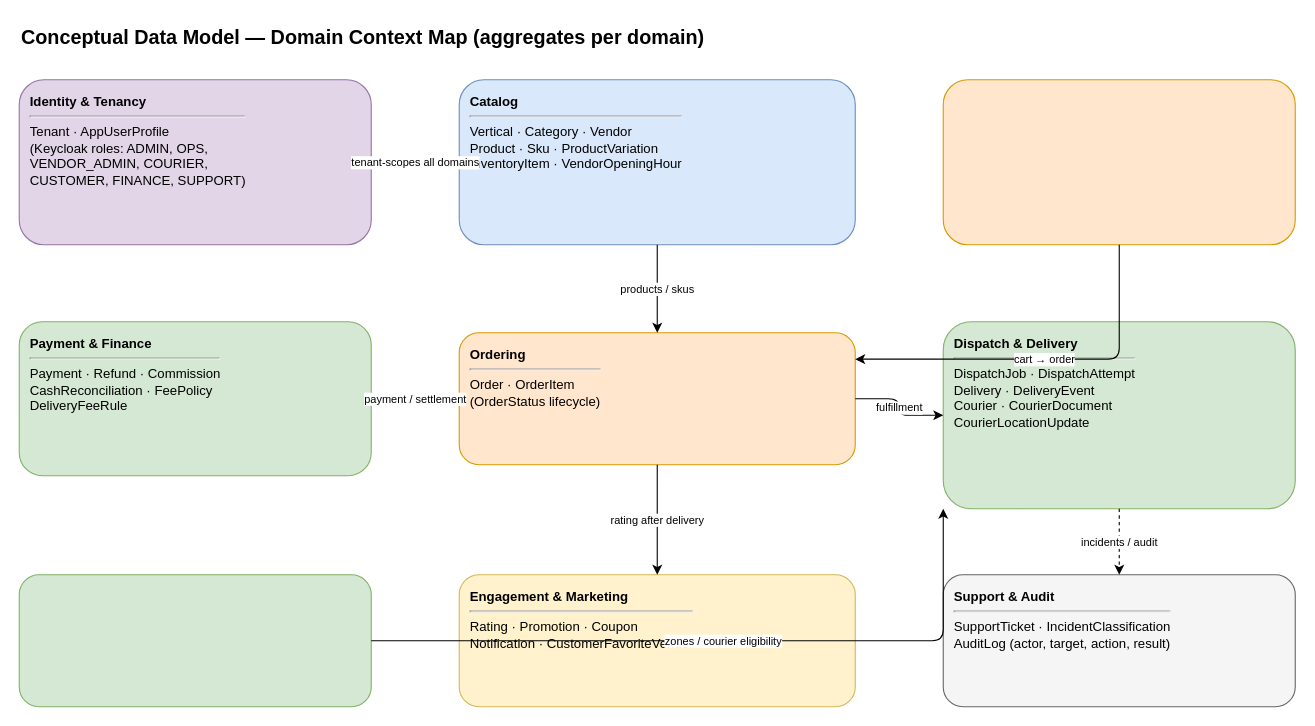
The diagram is 1315 pixels wide and 726 high, and some of its shapes have lost their labels. Each missing label, with the centre of its shape:
"Cart & Checkout Cart · CartItem (idempotent checkout)" belongs at point (1118, 162).
"Geo Zone (PostGIS) · ServiceSlot DeliveryFeeRule" belongs at point (194, 640).
